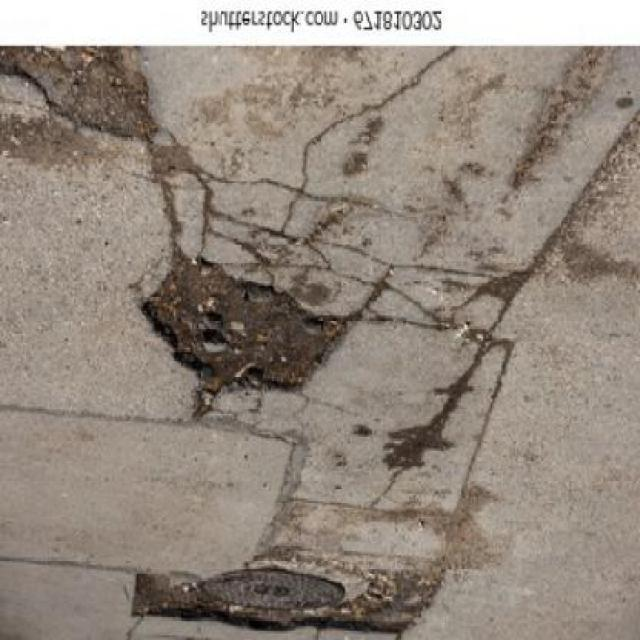Pothole: (142, 255, 346, 414), (129, 566, 447, 639), (0, 48, 156, 139)
